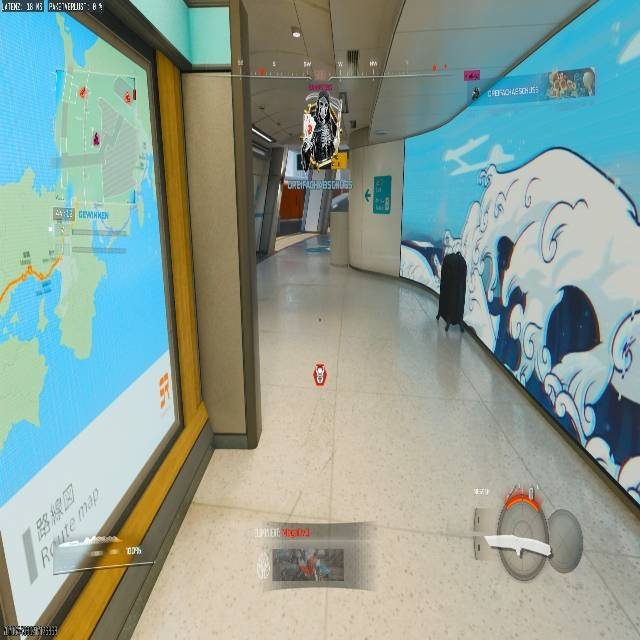head: (472, 144, 640, 479)
player: (301, 91, 342, 168)
